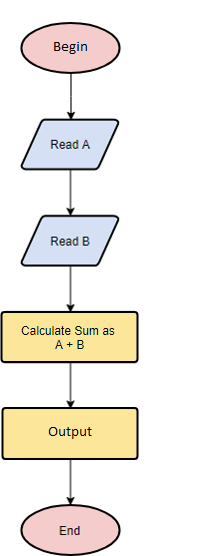arrow: (64, 74, 77, 119), (65, 362, 75, 407), (65, 171, 75, 213), (65, 268, 75, 310), (66, 460, 74, 504)
data: (19, 212, 119, 269), (18, 117, 120, 171)
process: (3, 309, 141, 365), (2, 405, 140, 460)
terminator: (18, 503, 123, 555), (19, 21, 121, 74)
text: (19, 323, 117, 350), (44, 425, 95, 441), (51, 39, 90, 56), (47, 138, 91, 153), (45, 235, 91, 248), (54, 524, 83, 538)
